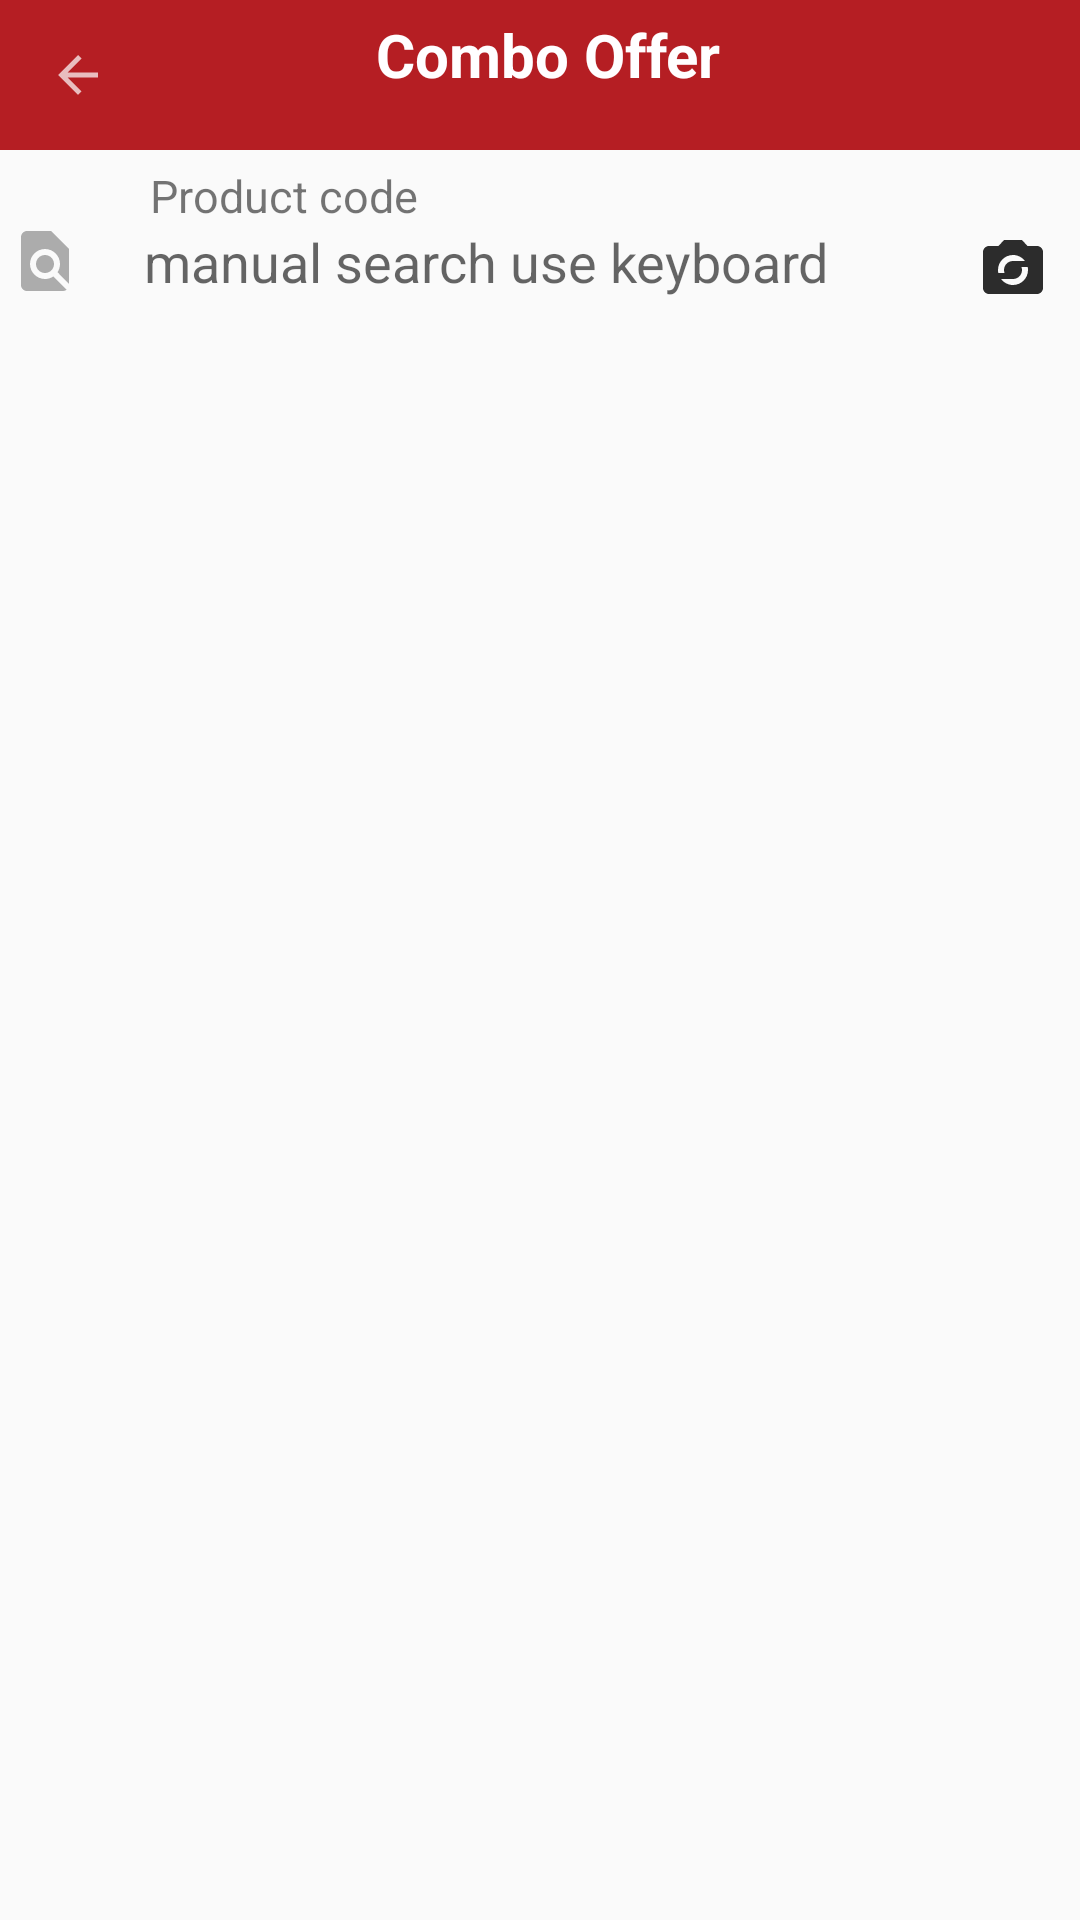

Where to tap for icons on this 1080w x 1920h app screen, as (x=x, y=y):
rof backbutton: (x=78, y=75)
rof camera: (x=1013, y=267)
scan: (x=45, y=261)
